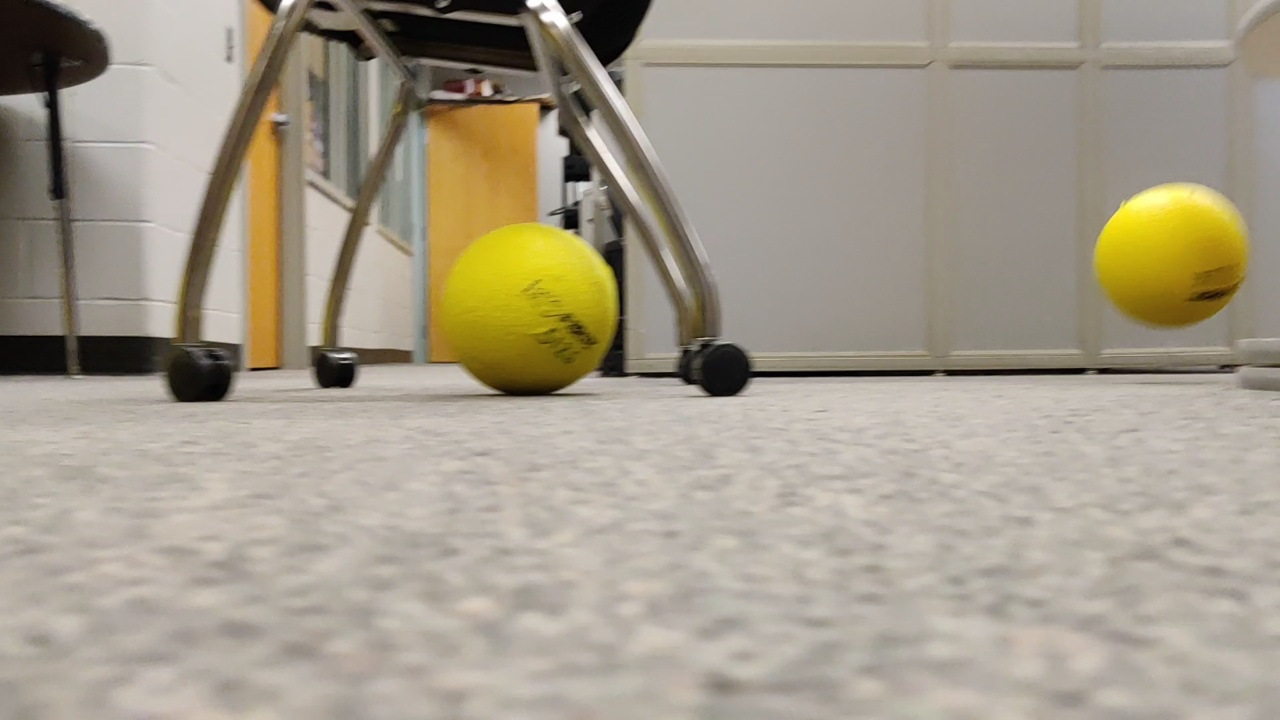Ball: (434, 222, 618, 396), (1087, 180, 1254, 329)
